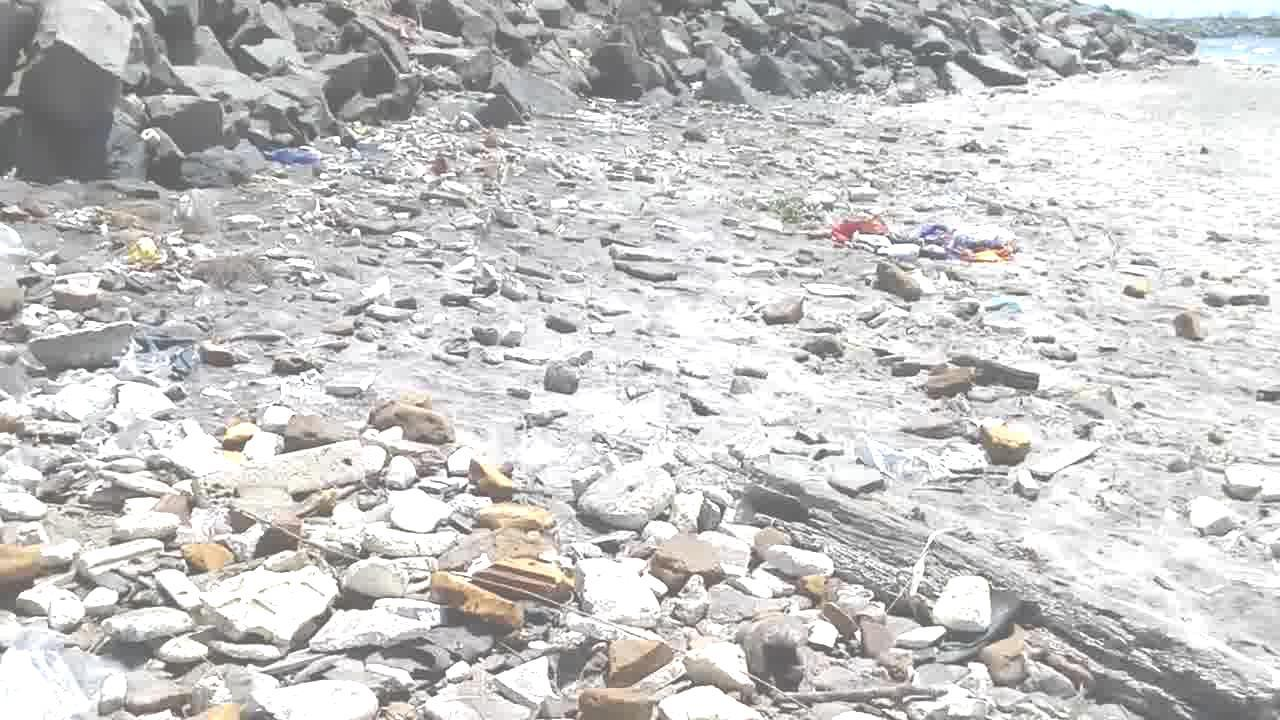large collection of objects: (281, 192, 682, 401)
obj: (740, 457, 1279, 717), (830, 202, 1029, 264), (4, 636, 148, 716), (463, 455, 565, 560), (366, 623, 495, 687), (772, 682, 963, 711), (434, 576, 522, 634), (472, 560, 572, 608), (744, 614, 808, 686), (368, 392, 448, 443), (950, 354, 1038, 391), (614, 638, 670, 688), (7, 550, 63, 599), (979, 423, 1032, 469), (220, 419, 262, 464), (120, 232, 158, 271), (180, 542, 228, 572)
sand/background: (1, 0, 1279, 200)
